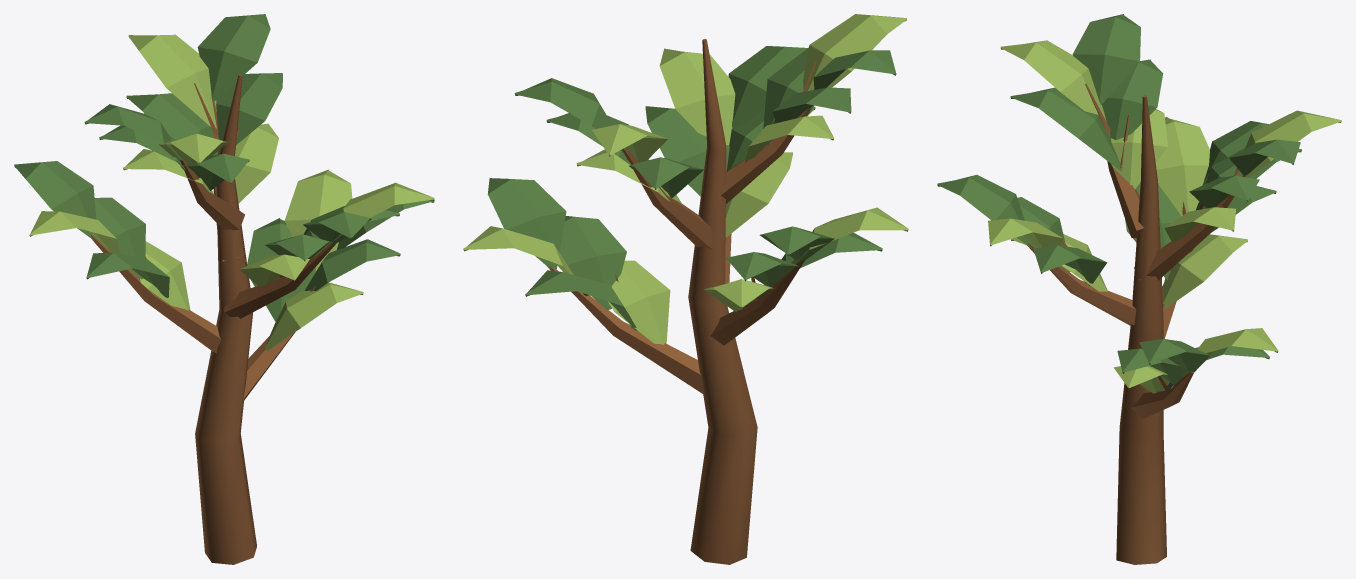
Rendered from crop_apple_tree_growing.glb.
The picture shows the model from 3 angles, left to right: view 1: azimuth 30°, elevation 25°; view 2: azimuth 150°, elevation 25°; view 3: azimuth 270°, elevation 25°; orthographic projection. The views are drawn at different scales.
Visible parts, largest first — view 1: apple_leaf_0_1, apple_b_0, apple_leaf_0_0; view 2: apple_leaf_0_1, apple_b_0, apple_leaf_0_0; view 3: apple_leaf_0_1, apple_b_0, apple_leaf_0_0.
Boxes of the visible parts, left/top/right/bottom form: apple_leaf_0_1: left=14, top=14, right=434, bottom=321; apple_b_0: left=90, top=74, right=336, bottom=564; apple_leaf_0_0: left=29, top=34, right=434, bottom=350; apple_leaf_0_1: left=487, top=46, right=896, bottom=330; apple_b_0: left=547, top=39, right=816, bottom=564; apple_leaf_0_0: left=463, top=14, right=908, bottom=344; apple_leaf_0_1: left=937, top=14, right=1301, bottom=389; apple_b_0: left=1026, top=83, right=1246, bottom=564; apple_leaf_0_0: left=988, top=40, right=1341, bottom=393.
Bounding box in the file's own units: 1.05 × 1.24 × 0.9416.
